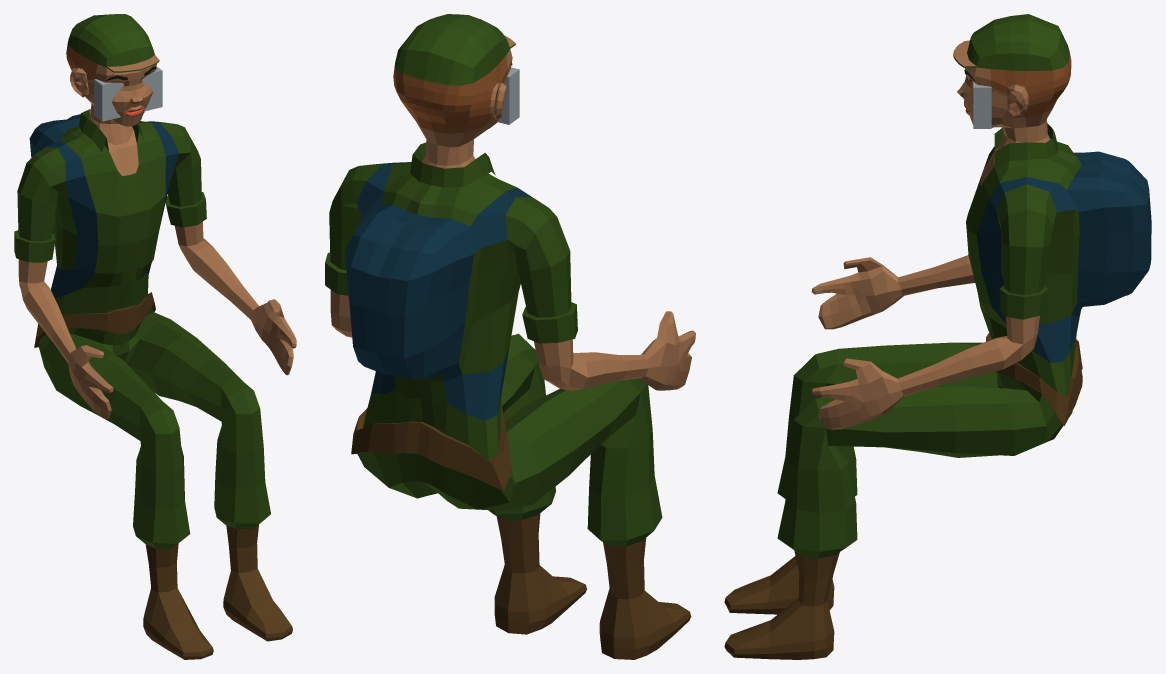
Rendered from Soldier_Sit_Mask.fbx.
3 renders of one model, left to right at view 1: azimuth 30°, elevation 25°; view 2: azimuth 150°, elevation 25°; view 3: azimuth 270°, elevation 25°, orthographic. The views are drawn at different scales.
Parts seen in each view (by area): view 1: Soldier_Sit_Mask; view 2: Soldier_Sit_Mask; view 3: Soldier_Sit_Mask.
Part boxes in pixels (left/top/right/bottom): Soldier_Sit_Mask: left=14, top=14, right=296, bottom=659; Soldier_Sit_Mask: left=325, top=14, right=695, bottom=659; Soldier_Sit_Mask: left=724, top=14, right=1151, bottom=659.
Bounding box in the file's own units: 0.3234 × 0.8093 × 0.5152.
